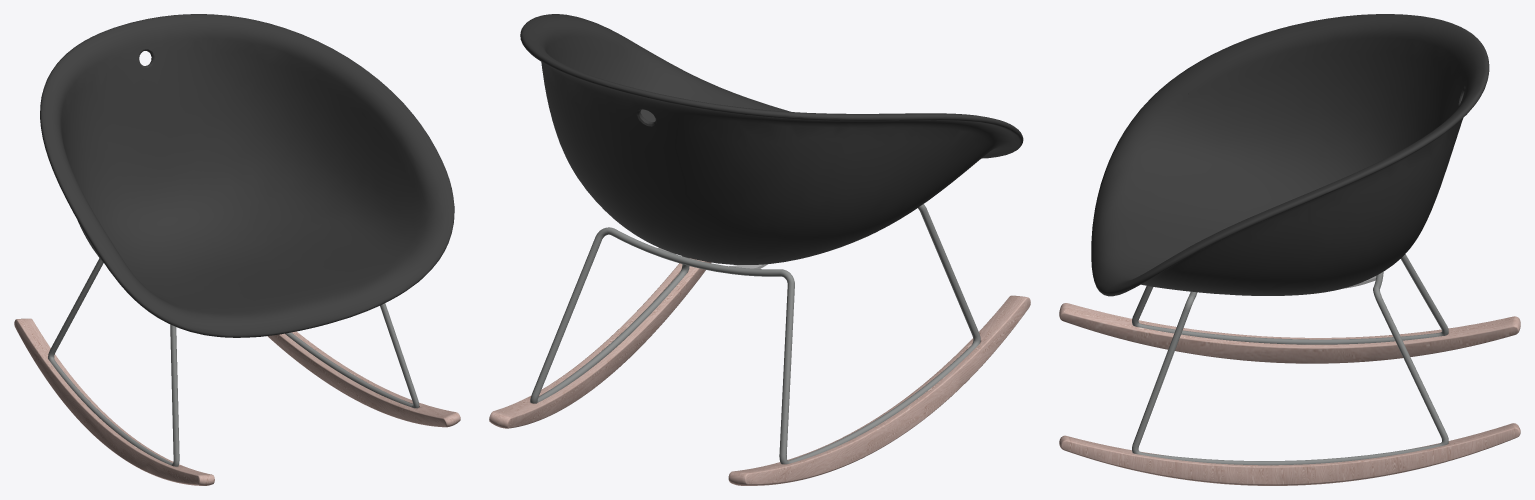
File: glisschair.gltf
The picture shows the model from 3 angles, left to right: view 1: azimuth 30°, elevation 25°; view 2: azimuth 150°, elevation 25°; view 3: azimuth 270°, elevation 25°; orthographic projection. The views are drawn at different scales.
Visible parts, largest first — view 1: gliss; view 2: gliss; view 3: gliss.
Boxes of the visible parts, left/top/right/bottom form: gliss: left=14, top=14, right=460, bottom=485; gliss: left=489, top=14, right=1030, bottom=485; gliss: left=1059, top=14, right=1520, bottom=485.
Bounding box in the file's own units: 0.7987 × 0.7162 × 0.8366.
1 material, 1 textured.
